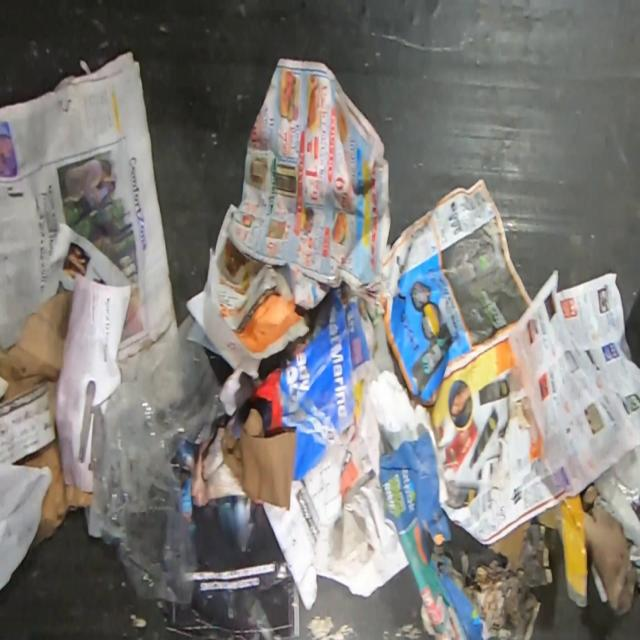cardboard: (0, 285, 93, 552), (430, 517, 554, 640), (534, 483, 640, 618), (220, 408, 296, 511)
soft_plastic: (82, 313, 226, 605), (593, 444, 640, 566)
